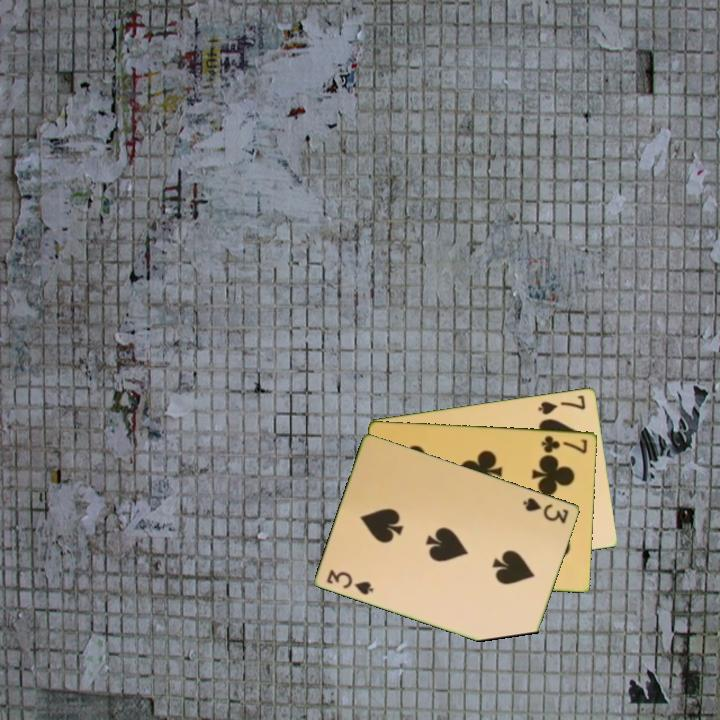3s: (323, 566, 377, 598), (520, 494, 572, 527)
7c: (538, 432, 590, 456)
7s: (535, 391, 588, 417)
